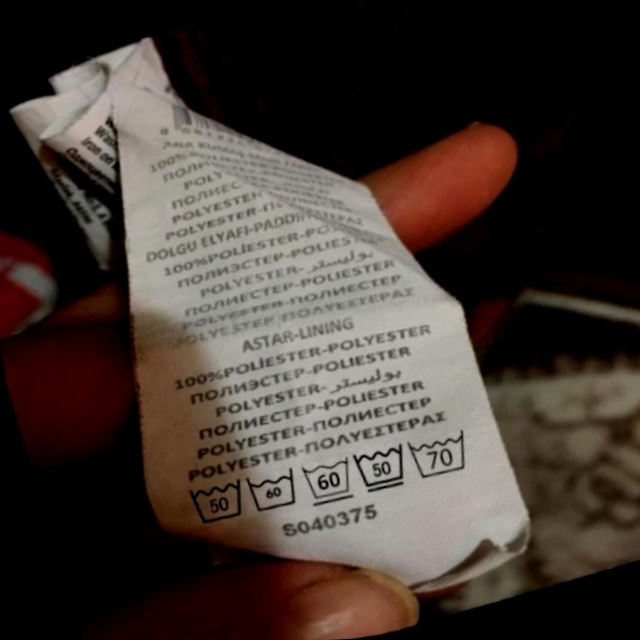50C: (176, 463, 259, 538), (344, 432, 421, 504)
60C: (294, 445, 367, 514), (238, 456, 311, 524)
70C: (401, 418, 485, 489)
